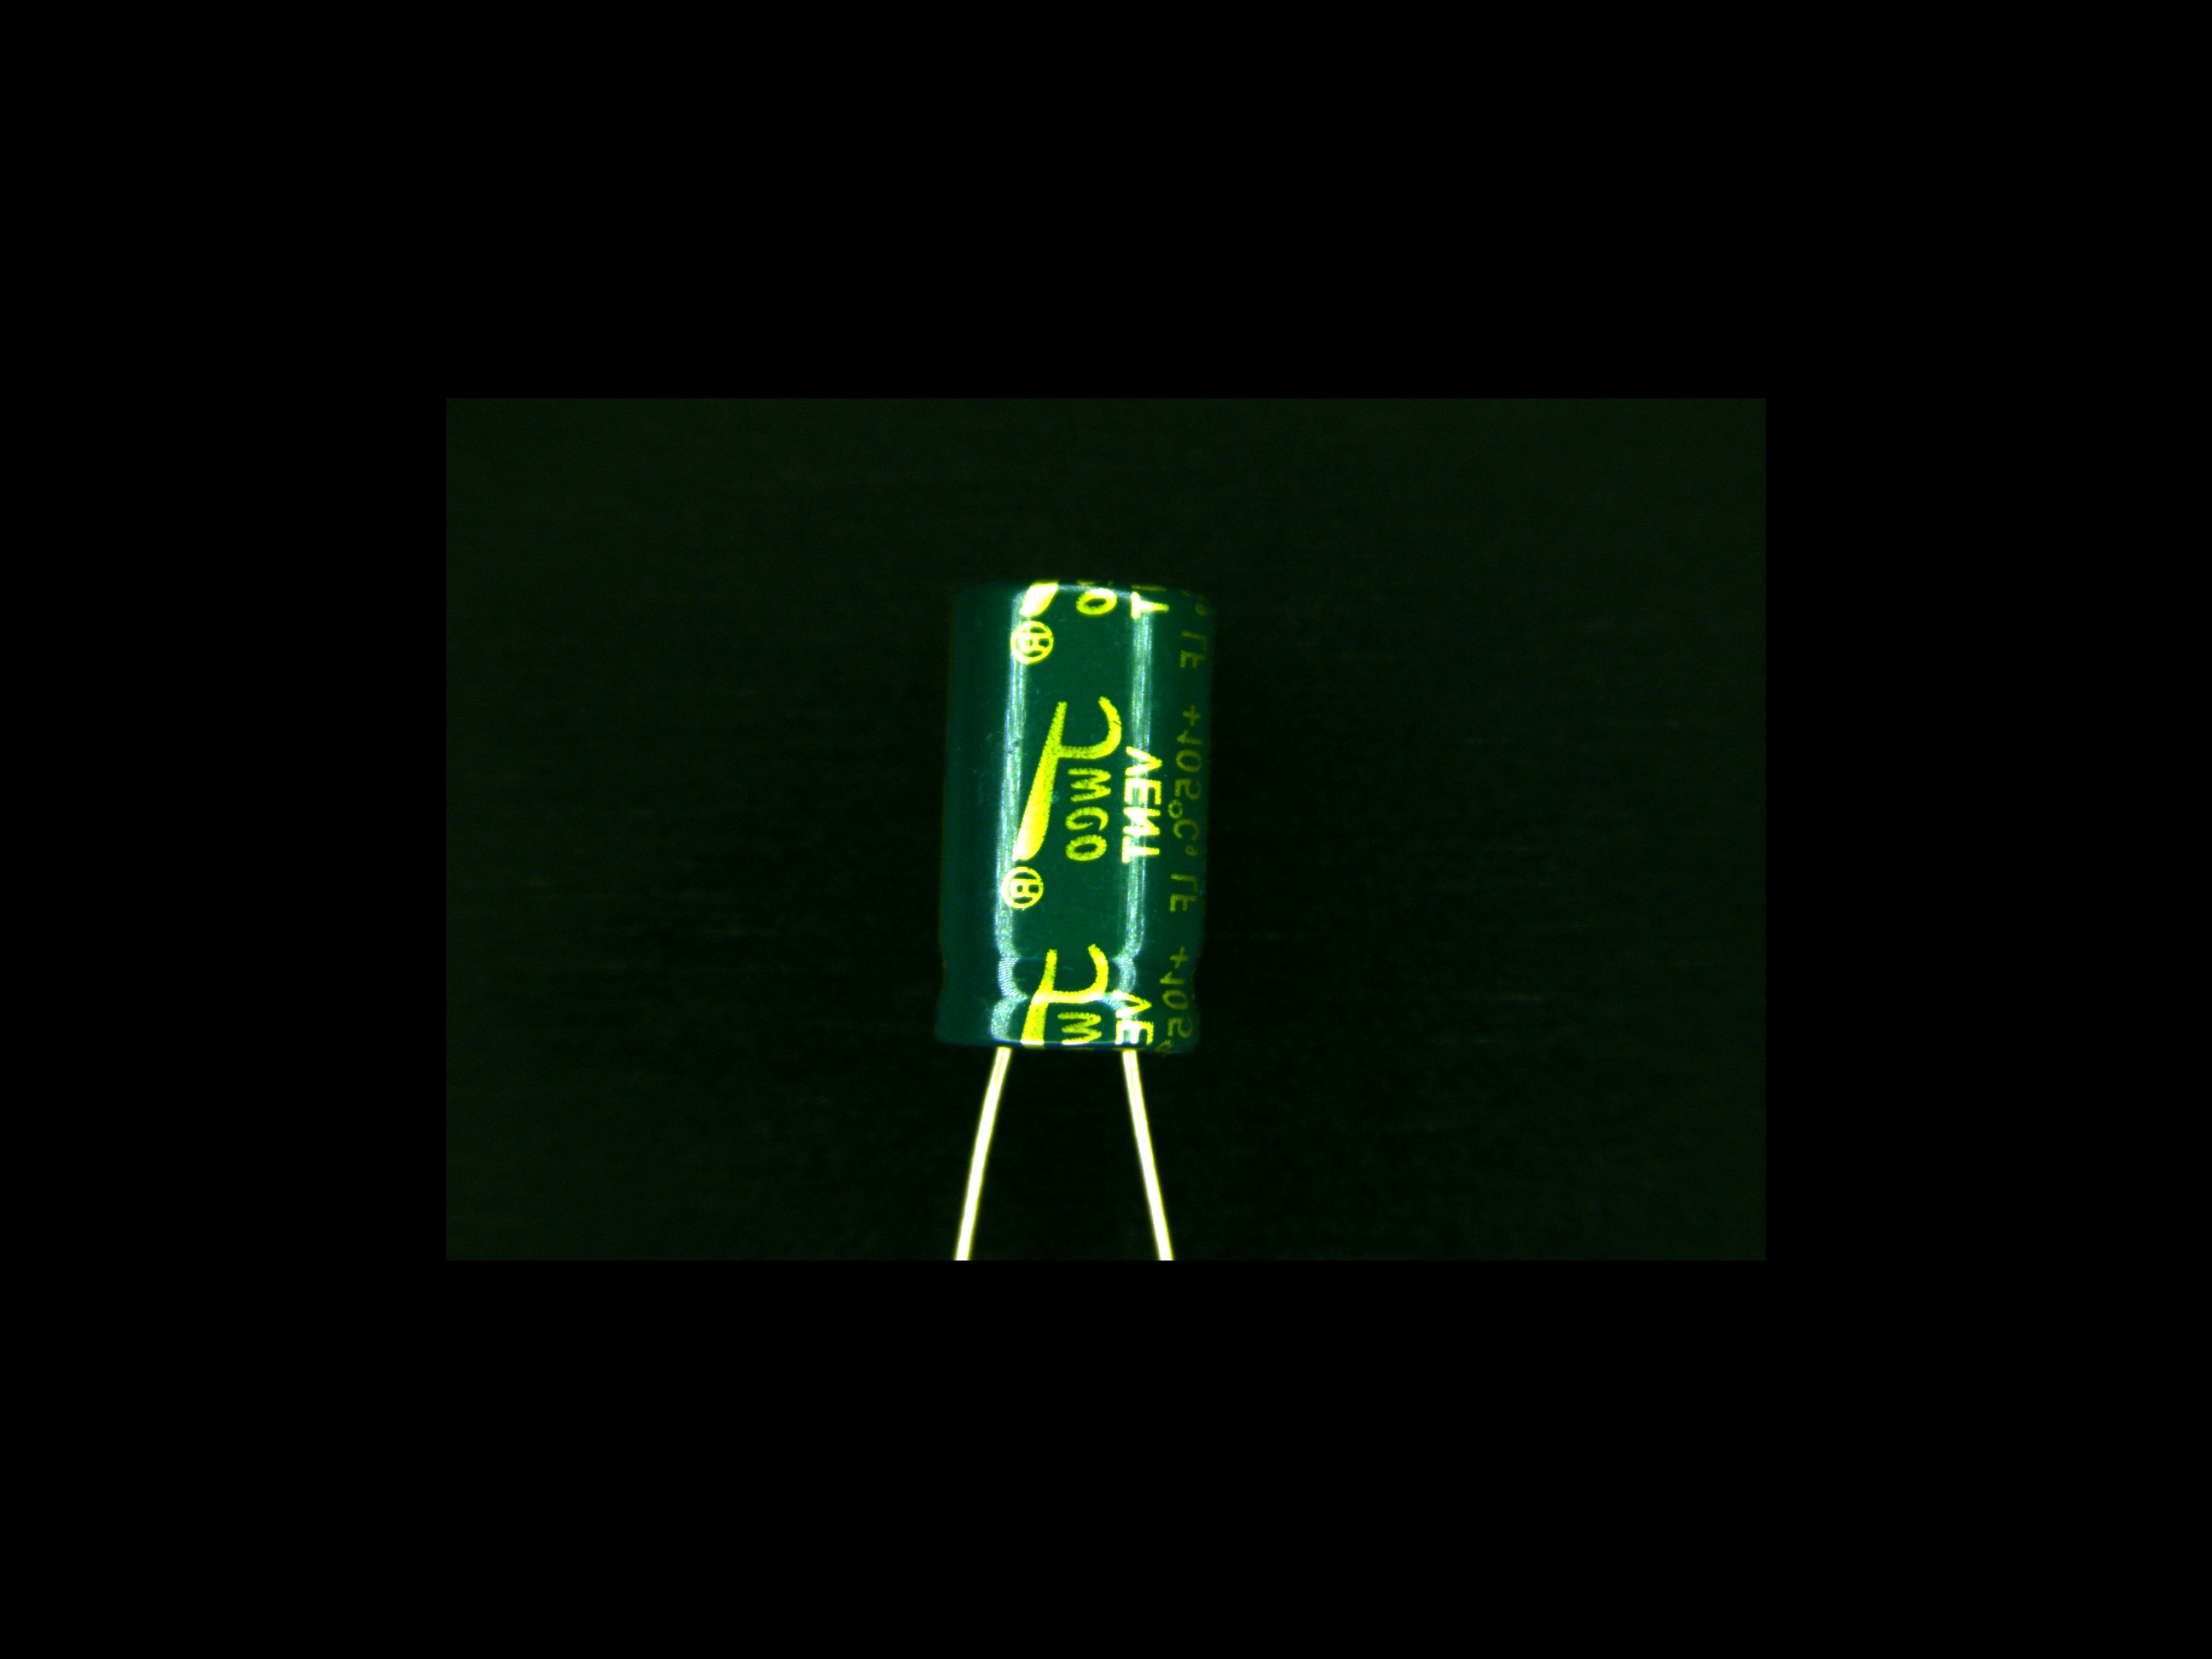c1: (928, 577, 1219, 1110)
